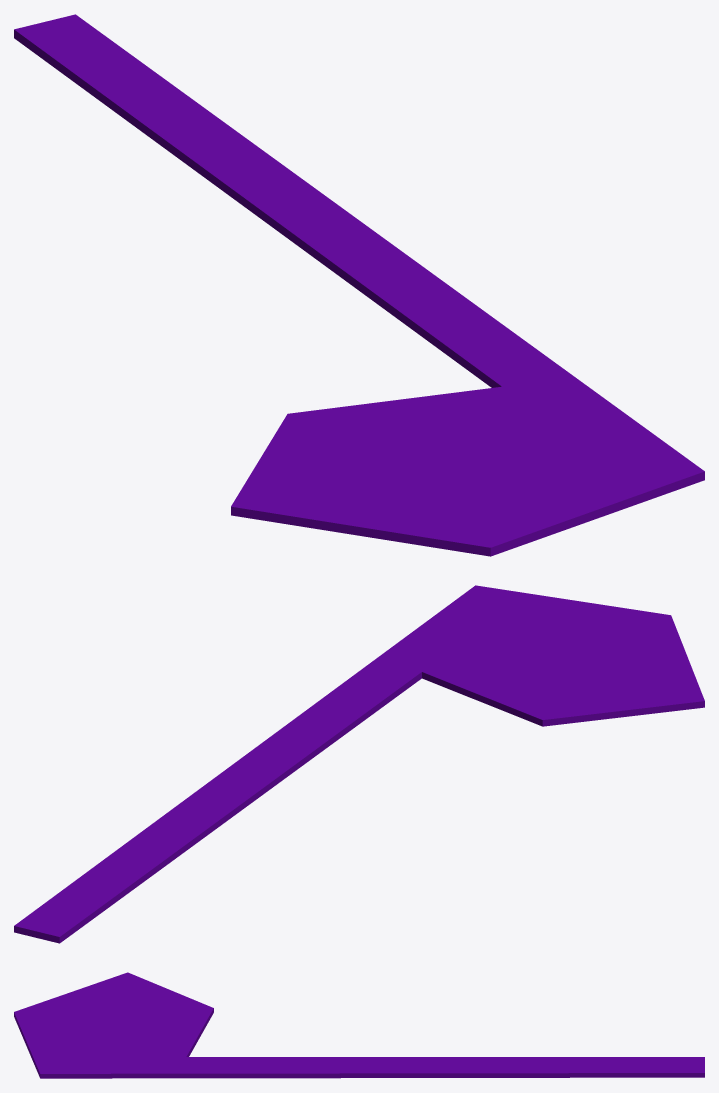
File: MusicNote02.fbx
3 renders of one model, top to bottom at view 1: azimuth 30°, elevation 25°; view 2: azimuth 150°, elevation 25°; view 3: azimuth 270°, elevation 25°, orthographic. The views are drawn at different scales.
Visible parts, largest first — view 1: musicNote2; view 2: musicNote2; view 3: musicNote2.
Part boxes in pixels (left/top/right/bottom): musicNote2: left=14, top=14, right=704, bottom=556; musicNote2: left=14, top=585, right=704, bottom=943; musicNote2: left=14, top=972, right=704, bottom=1078.
Size of the model in its own units: 2.33 by 0.05 by 6.71.
